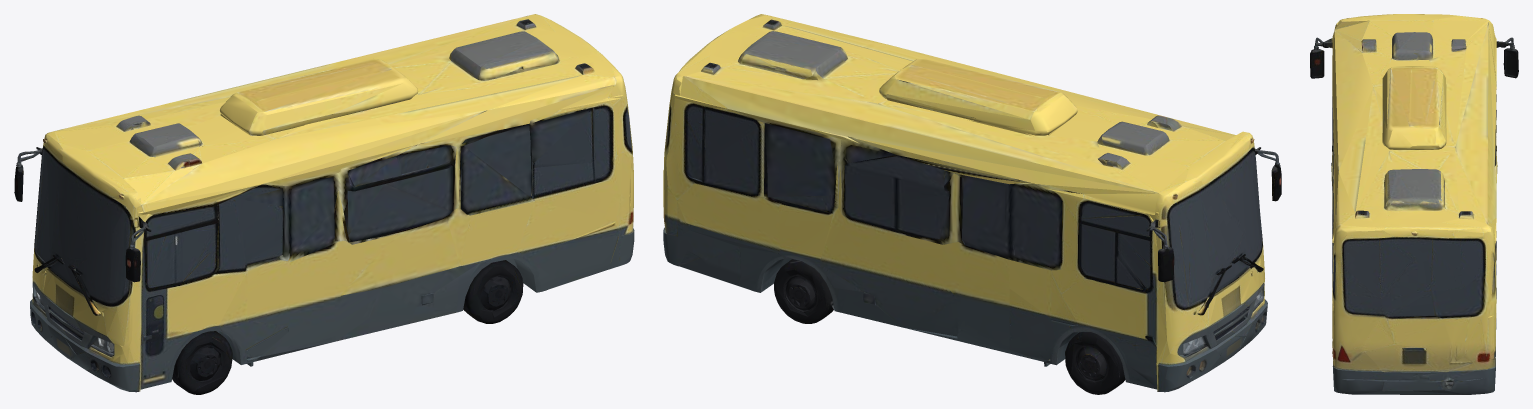
The model's file is bus.glb.
The picture shows the model from 3 angles, left to right: view 1: azimuth 30°, elevation 25°; view 2: azimuth 150°, elevation 25°; view 3: azimuth 270°, elevation 25°; orthographic projection. The views are drawn at different scales.
Size of the model in its own units: 1.9 by 0.8182 by 0.7345.
1 material, 1 textured.
